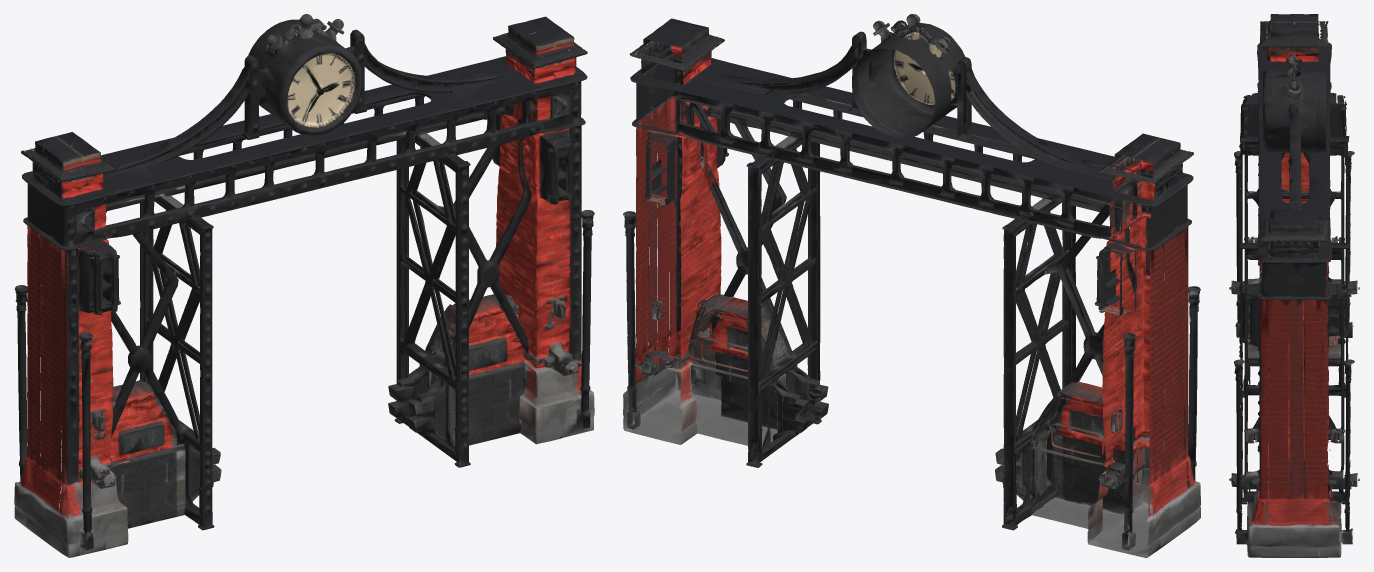
Rendered from rail_gate.glb.
3 views of the same model, side by side, from view 1: azimuth 30°, elevation 25°; view 2: azimuth 150°, elevation 25°; view 3: azimuth 270°, elevation 25° (orthographic). The views are drawn at different scales.
Bounding box in the file's own units: 1.9 × 1.58 × 0.4765.
Materials: 1 (1 with a texture image).
